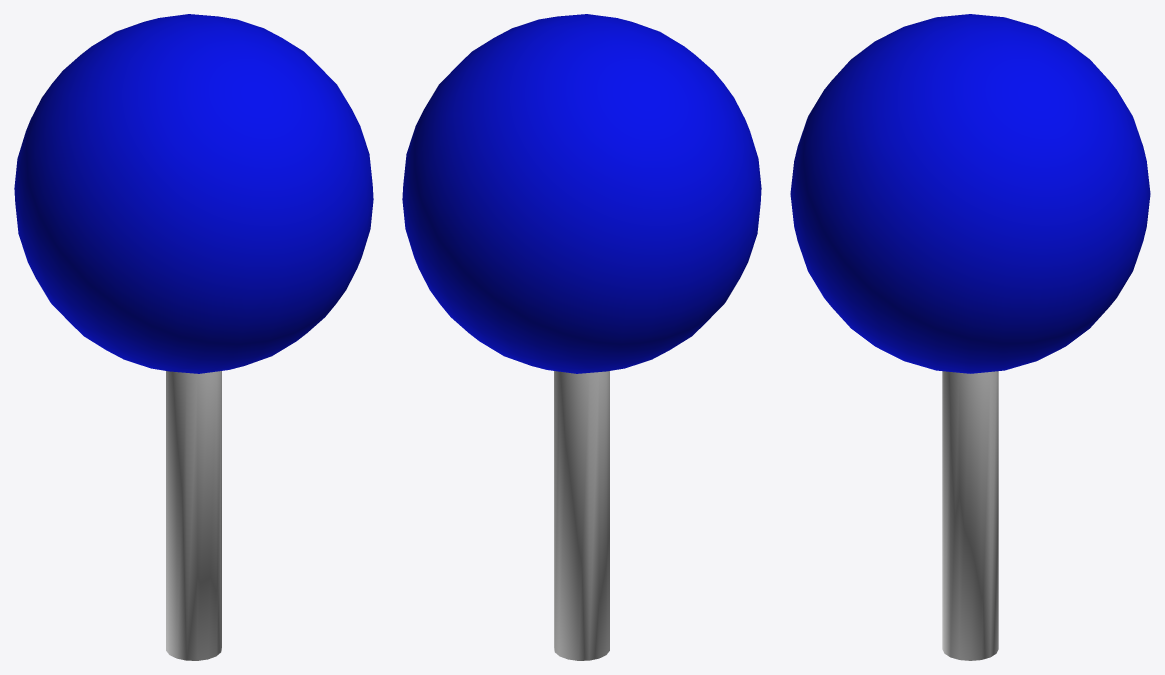
Rendered from blue.glb.
3 renders of one model, left to right at view 1: azimuth 30°, elevation 25°; view 2: azimuth 150°, elevation 25°; view 3: azimuth 270°, elevation 25°, orthographic.
Parts seen in each view (by area): view 1: Blue; view 2: Blue; view 3: Blue.
Part boxes in pixels (left/top/right/bottom): Blue: left=14, top=14, right=373, bottom=660; Blue: left=402, top=14, right=761, bottom=660; Blue: left=790, top=14, right=1150, bottom=660.
Size of the model in its own units: 0.3764 by 0.7133 by 0.3764.
